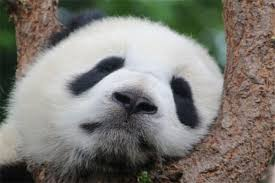panda: (1, 10, 228, 183)
